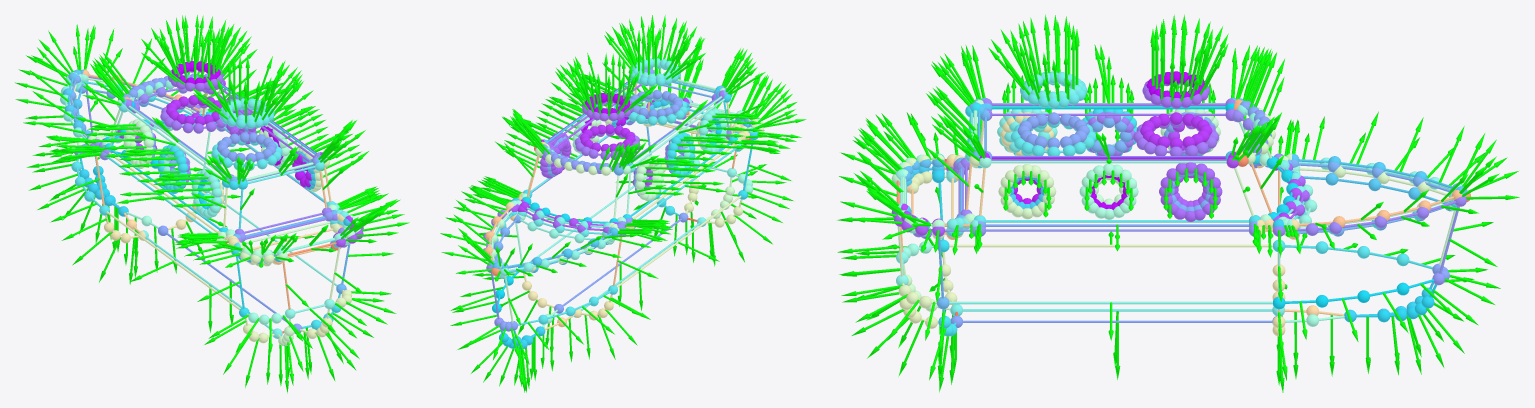
File: onshape_boat.gltf
The picture shows the model from 3 angles, left to right: view 1: azimuth 30°, elevation 25°; view 2: azimuth 150°, elevation 25°; view 3: azimuth 270°, elevation 25°; orthographic projection. The views are drawn at different scales.
Size of the model in its own units: 0.4529 by 0.5929 by 1.07.
